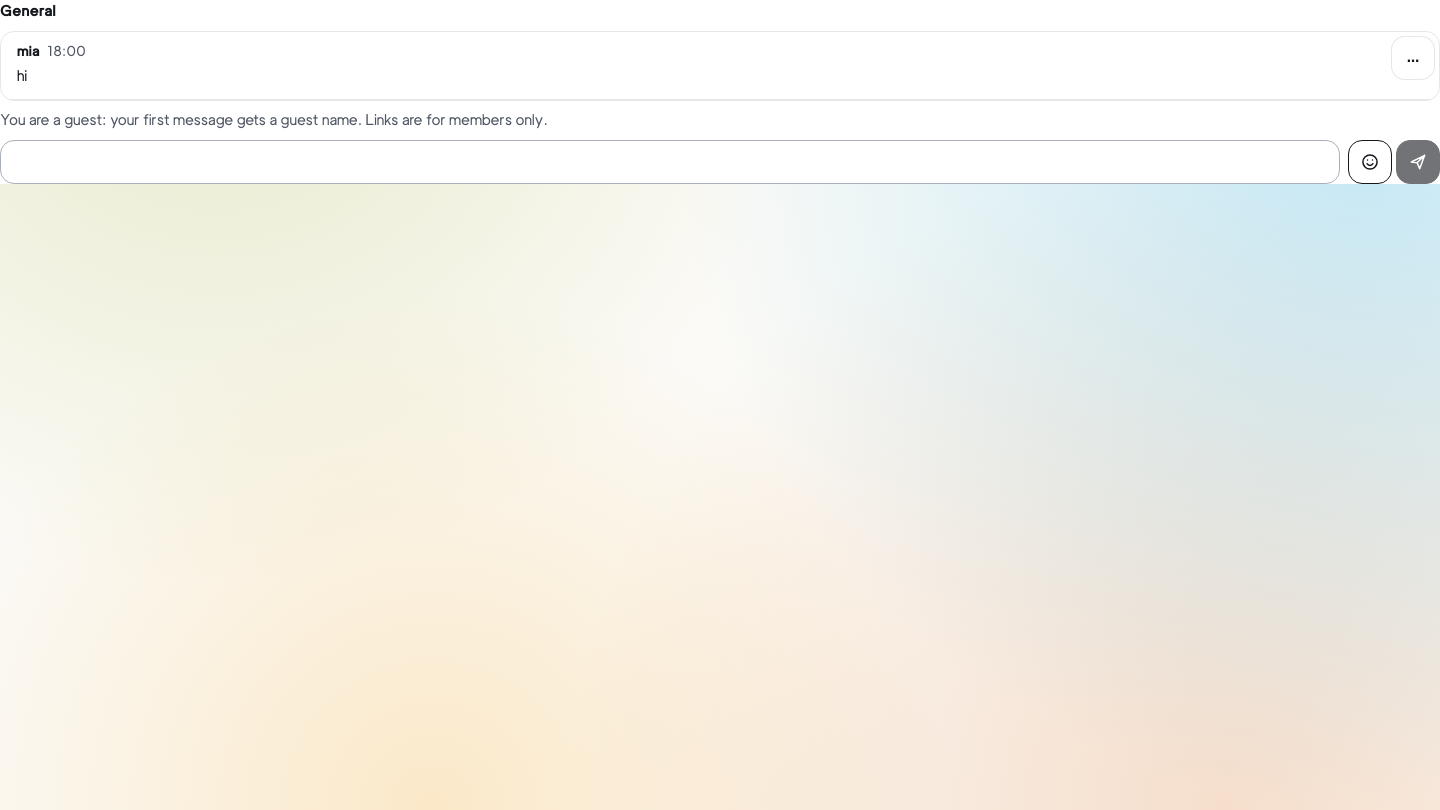
Test: ChatPanel on its own › shows its room and sends, with nothing around it but the account context
Expected: the text "hi" is shown, [17, 66, 27, 84]
In the text box named "Message": (670, 162) [0, 140, 1340, 184], type "hello"
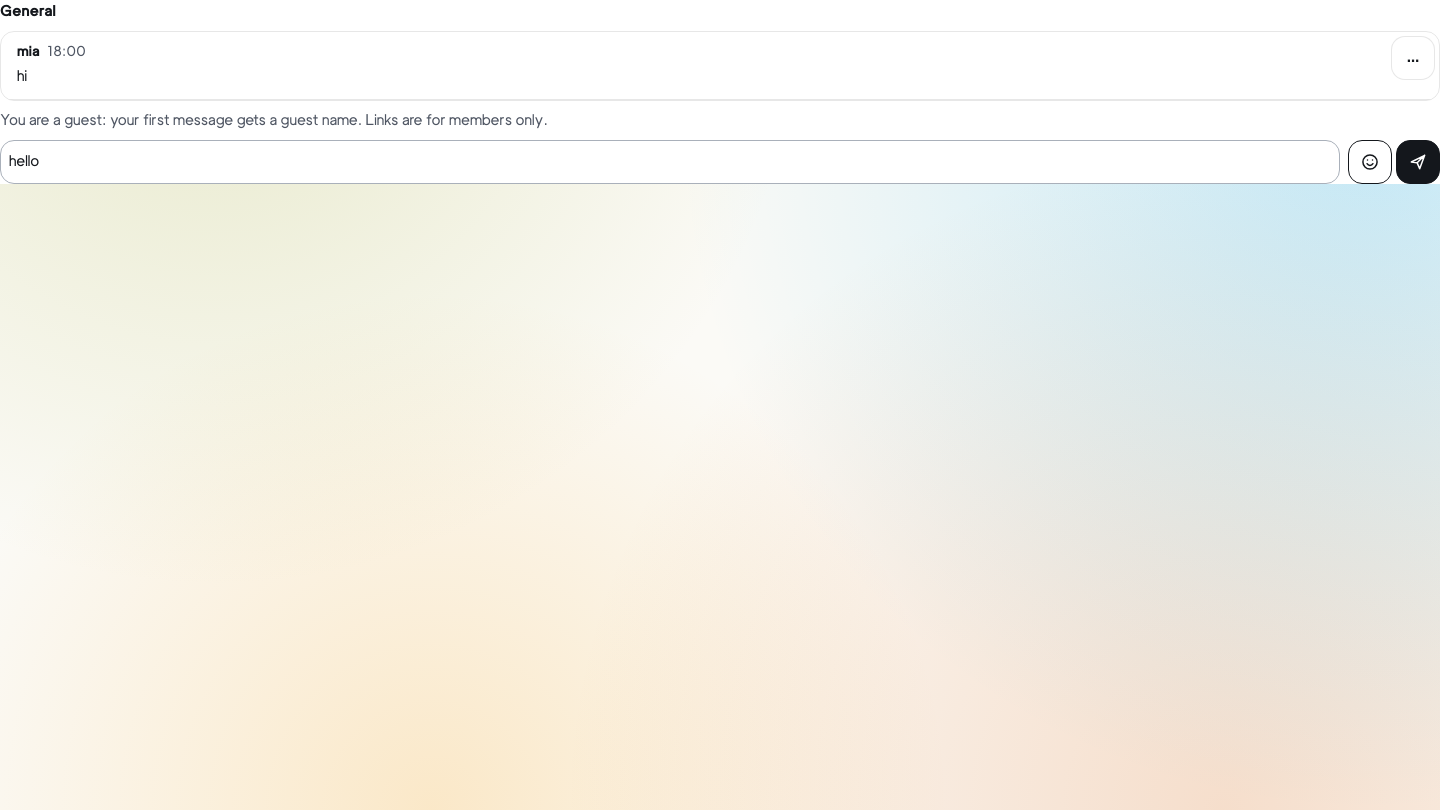
Click the 2nd button named "Send": (1418, 162) [1396, 140, 1439, 184]
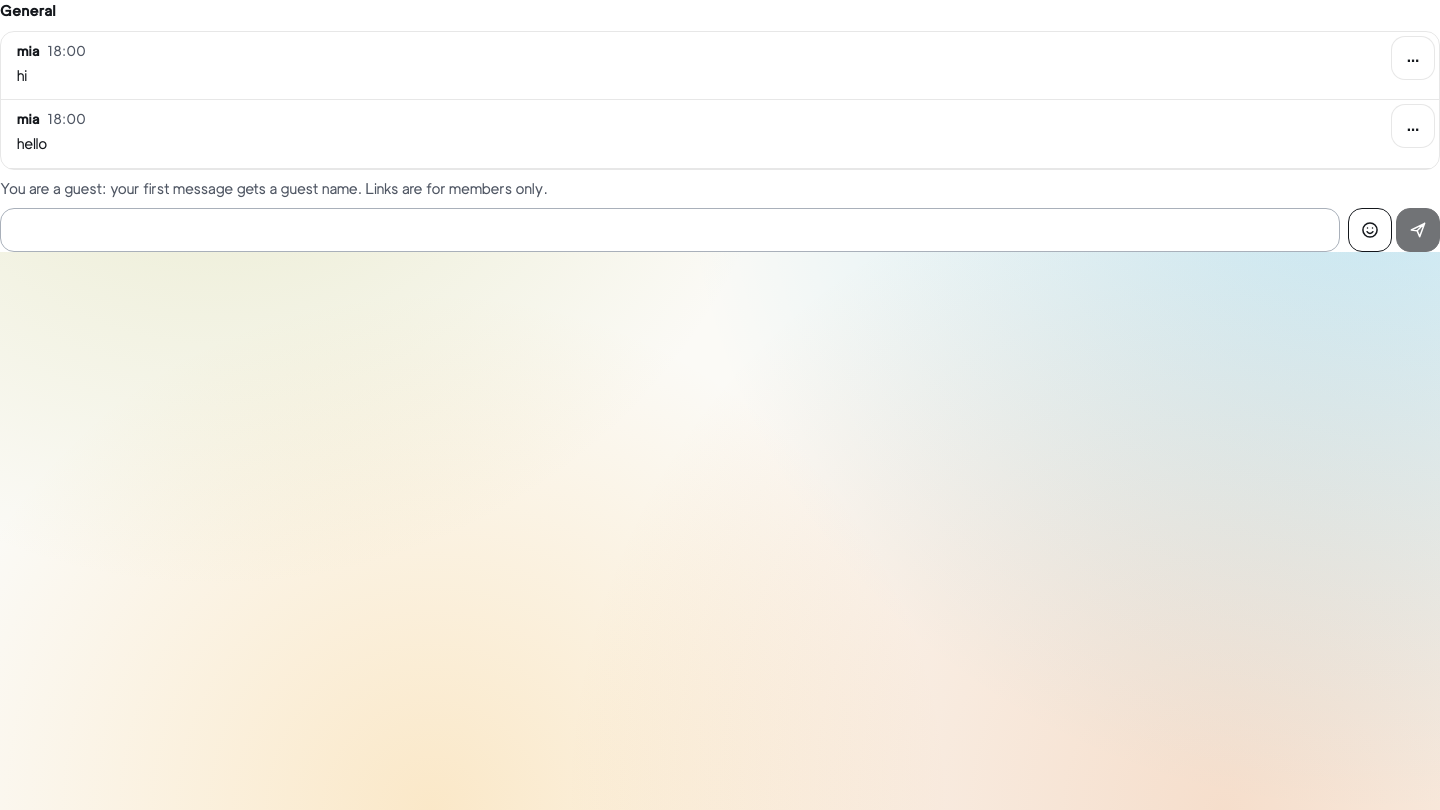
Result: the text "hello" is shown at [17, 135, 47, 153]
